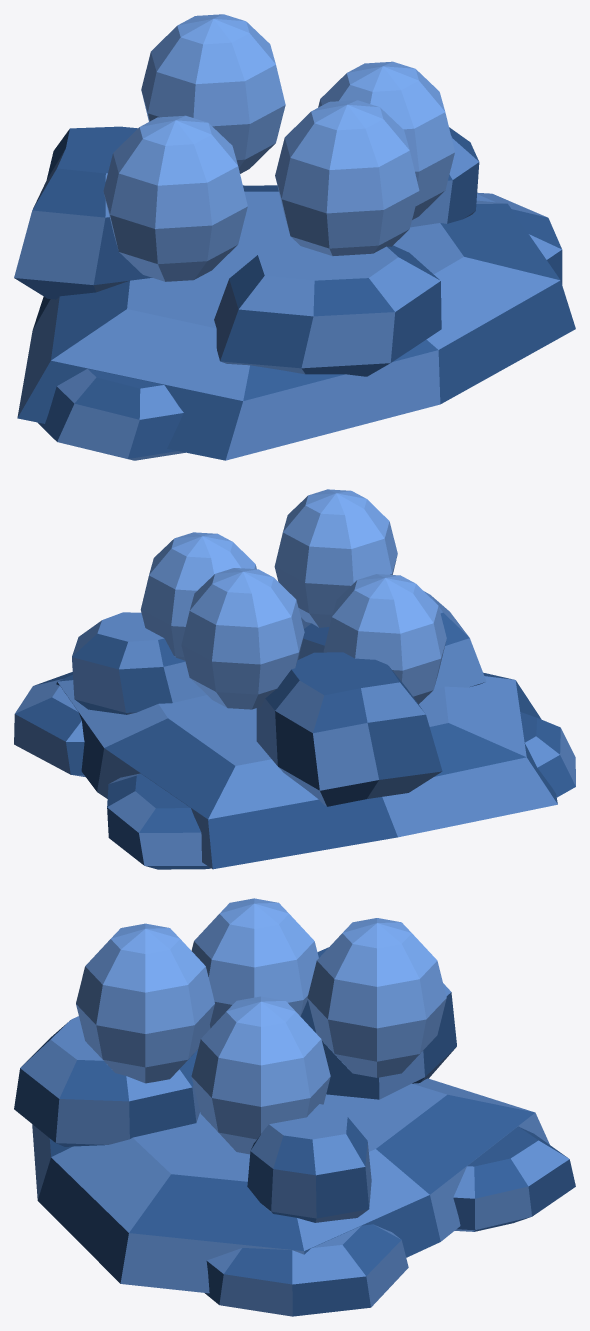
Rendered from BH_ORE_O09_Safira_Sepulcral_V01.glb.
3 renders of one model, top to bottom at view 1: azimuth 30°, elevation 25°; view 2: azimuth 150°, elevation 25°; view 3: azimuth 270°, elevation 25°, orthographic. The views are drawn at different scales.
Visible parts, largest first — view 1: Bedrock | primary.001, O09 | fractured stone 3.001, Sapphire dodeca-like core 3.001, Sapphire dodeca-like core 4.001, Sapphire dodeca-like core 2.001, O09 | fractured stone 2.001, Bedrock | shoulder 1.001, Sapphire dodeca-like core 1.001, O09 | fractured stone 1.001, Bedrock | shoulder 2.001; view 2: Bedrock | primary.001, O09 | fractured stone 2.001, Sapphire dodeca-like core 2.001, Sapphire dodeca-like core 4.001, Sapphire dodeca-like core 3.001, O09 | fractured stone 1.001, Bedrock | shoulder 3.001, Sapphire dodeca-like core 1.001, Bedrock | shoulder 2.001, O09 | fractured stone 3.001, Bedrock | shoulder 1.001; view 3: Bedrock | primary.001, Sapphire dodeca-like core 2.001, Sapphire dodeca-like core 4.001, Sapphire dodeca-like core 1.001, O09 | fractured stone 3.001, Bedrock | shoulder 2.001, O09 | fractured stone 1.001, Sapphire dodeca-like core 3.001, Bedrock | shoulder 3.001, O09 | fractured stone 2.001.
Boxes of the visible parts, left/top/right/bottom form: Bedrock | primary.001: left=17, top=185, right=575, bottom=460; O09 | fractured stone 3.001: left=214, top=234, right=441, bottom=376; Sapphire dodeca-like core 3.001: left=103, top=115, right=247, bottom=281; Sapphire dodeca-like core 4.001: left=275, top=100, right=419, bottom=255; Sapphire dodeca-like core 2.001: left=141, top=14, right=285, bottom=173; O09 | fractured stone 2.001: left=14, top=126, right=152, bottom=299; Bedrock | shoulder 1.001: left=38, top=368, right=185, bottom=460; Sapphire dodeca-like core 1.001: left=318, top=61, right=454, bottom=219; O09 | fractured stone 1.001: left=410, top=127, right=479, bottom=227; Bedrock | shoulder 2.001: left=476, top=192, right=562, bottom=284; Bedrock | primary.001: left=56, top=672, right=557, bottom=869; O09 | fractured stone 2.001: left=256, top=652, right=442, bottom=806; Sapphire dodeca-like core 2.001: left=181, top=568, right=304, bottom=709; Sapphire dodeca-like core 4.001: left=274, top=489, right=397, bottom=627; Sapphire dodeca-like core 3.001: left=323, top=574, right=446, bottom=704; O09 | fractured stone 1.001: left=72, top=612, right=206, bottom=714; Bedrock | shoulder 3.001: left=107, top=773, right=210, bottom=869; Sapphire dodeca-like core 1.001: left=140, top=532, right=256, bottom=660; Bedrock | shoulder 2.001: left=14, top=672, right=85, bottom=777; O09 | fractured stone 3.001: left=298, top=591, right=486, bottom=689; Bedrock | shoulder 1.001: left=520, top=712, right=575, bottom=797; Bedrock | primary.001: left=32, top=1078, right=549, bottom=1293; Sapphire dodeca-like core 2.001: left=307, top=918, right=446, bottom=1077; Sapphire dodeca-like core 4.001: left=76, top=923, right=214, bottom=1083; Sapphire dodeca-like core 1.001: left=191, top=996, right=330, bottom=1154; O09 | fractured stone 3.001: left=14, top=1016, right=200, bottom=1146; Bedrock | shoulder 2.001: left=205, top=1224, right=408, bottom=1316; O09 | fractured stone 1.001: left=247, top=1104, right=371, bottom=1222; Sapphire dodeca-like core 3.001: left=191, top=898, right=318, bottom=1030; Bedrock | shoulder 3.001: left=453, top=1126, right=575, bottom=1231; O09 | fractured stone 2.001: left=300, top=947, right=456, bottom=1099.
Size of the model in its own units: 2.45 by 1.19 by 2.18.
